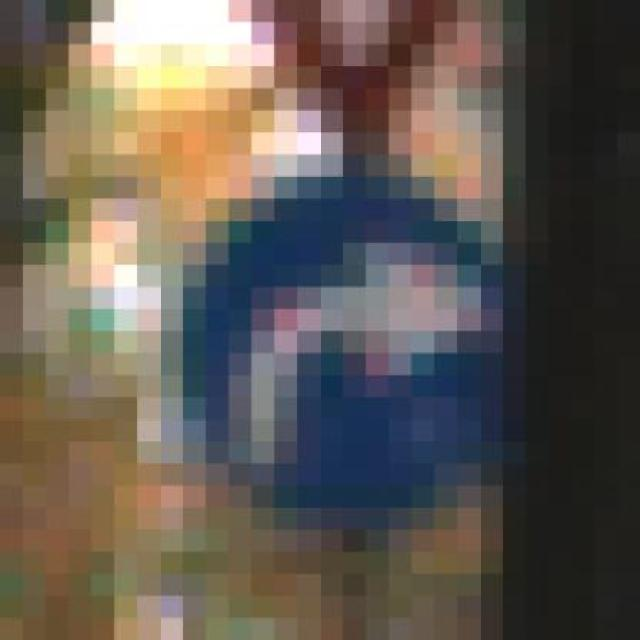Turn right ahead: (160, 132, 549, 552)
